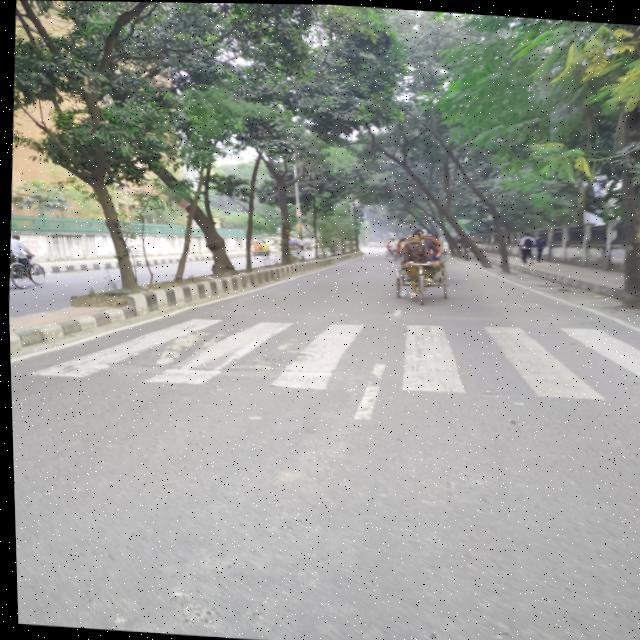rikshaw: (385, 221, 482, 330)
